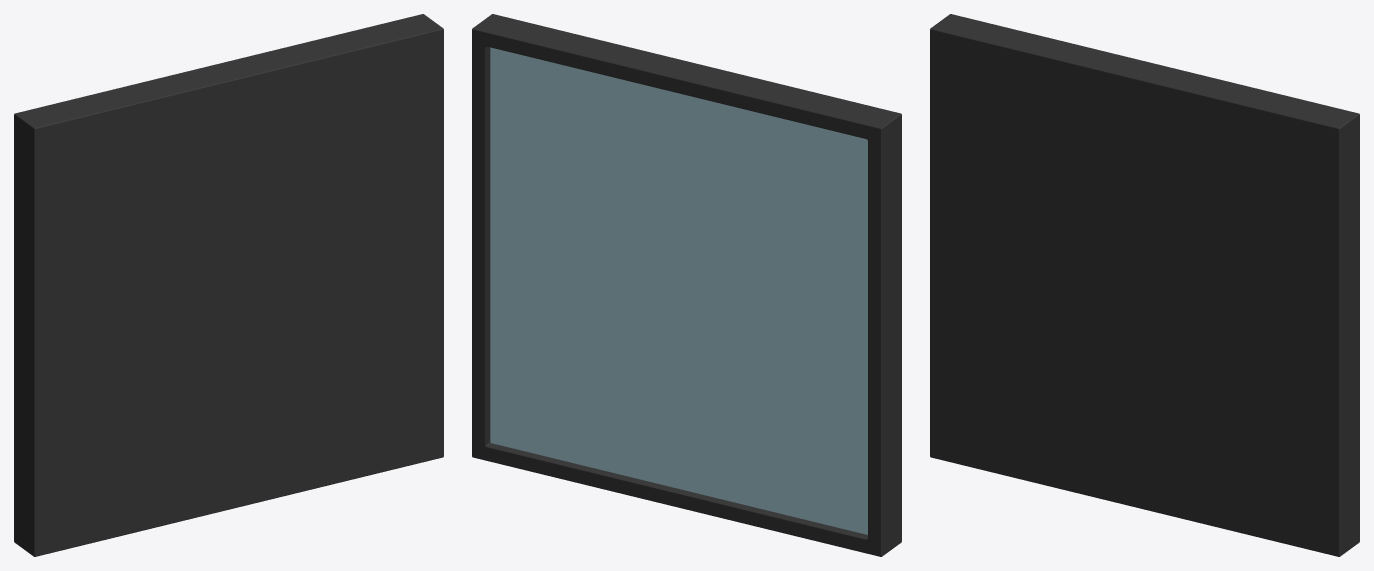
File: VP_Picture_Frames_05.FBX
3 renders of one model, left to right at view 1: azimuth 30°, elevation 25°; view 2: azimuth 150°, elevation 25°; view 3: azimuth 330°, elevation 25°, orthographic.
Parts seen in each view (by area): view 1: VP_Picture_Frames_05; view 2: VP_Picture_Frames_05; view 3: VP_Picture_Frames_05.
Part boxes in pixels (x1,y1,x2,y2): VP_Picture_Frames_05: [14, 14, 443, 556]; VP_Picture_Frames_05: [472, 14, 901, 556]; VP_Picture_Frames_05: [930, 14, 1359, 556].
Size of what is drawn, in the model's own units: 72.57 by 6.37 by 72.57.
